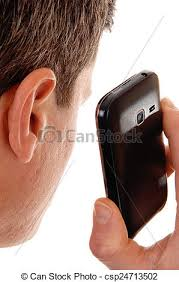phone: (97, 70, 169, 240)
